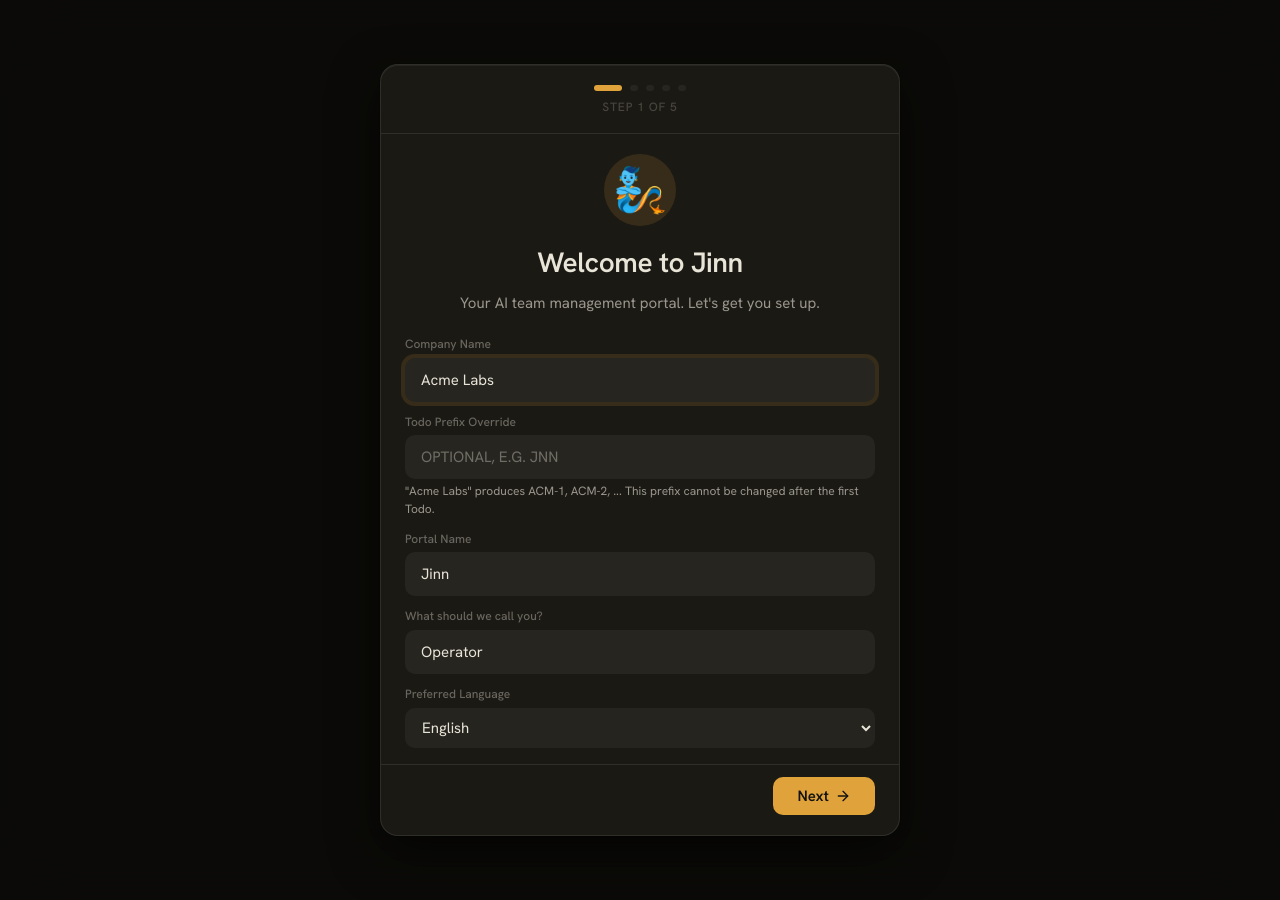
OnboardingWizard model registry › allows an explicit canonical prefix override before allocation
Type "Build Sprint Labs" into the field labelled "Company Name" at (640, 380), box top-left (405, 358), bottom-right (875, 402)
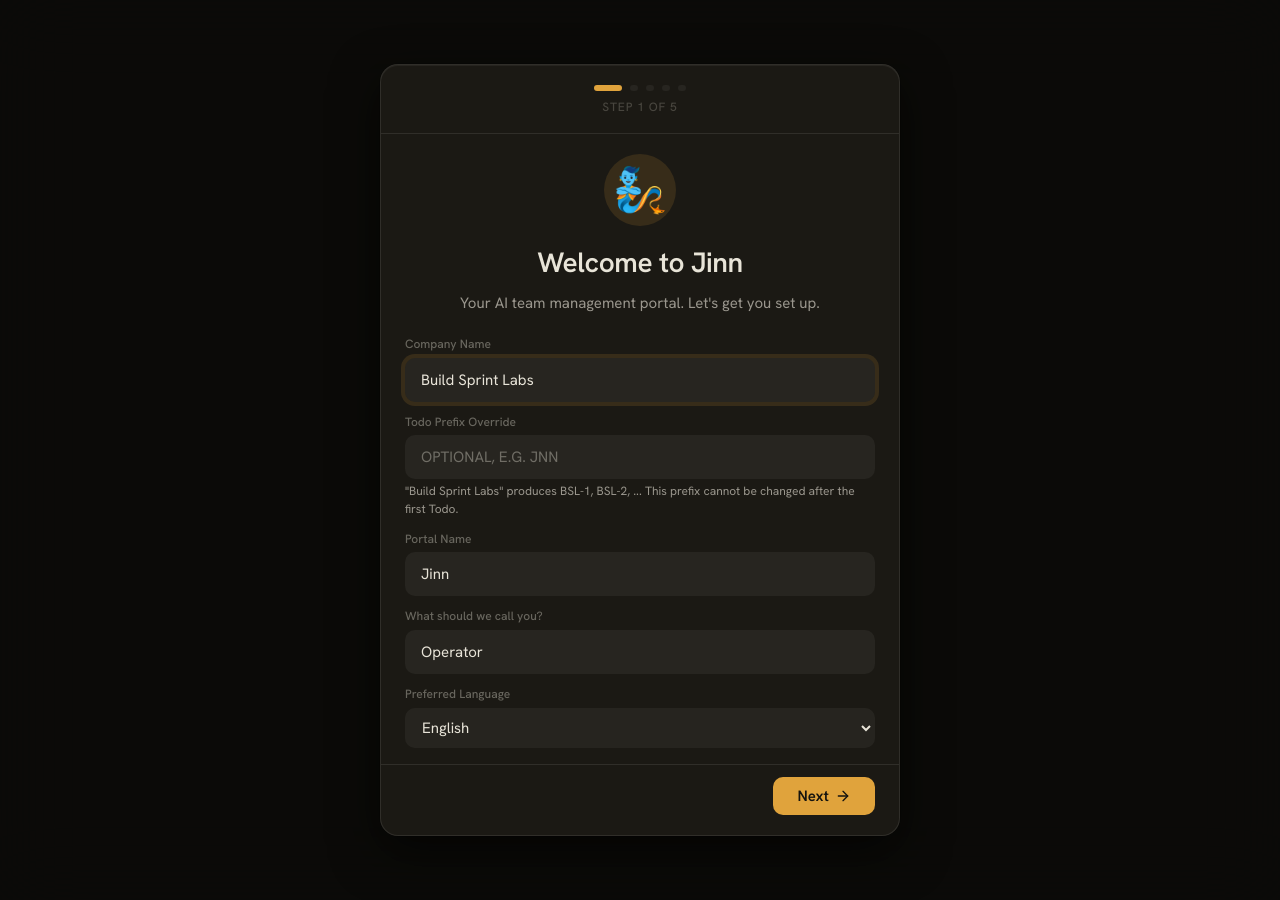
Now the text "\"Build Sprint Labs\" produces BSL-1, BSL-2" is shown, box top-left (405, 483), bottom-right (875, 519)
Type "JNN" into the field labelled "Todo Prefix Override" at (640, 457), box top-left (405, 435), bottom-right (875, 479)
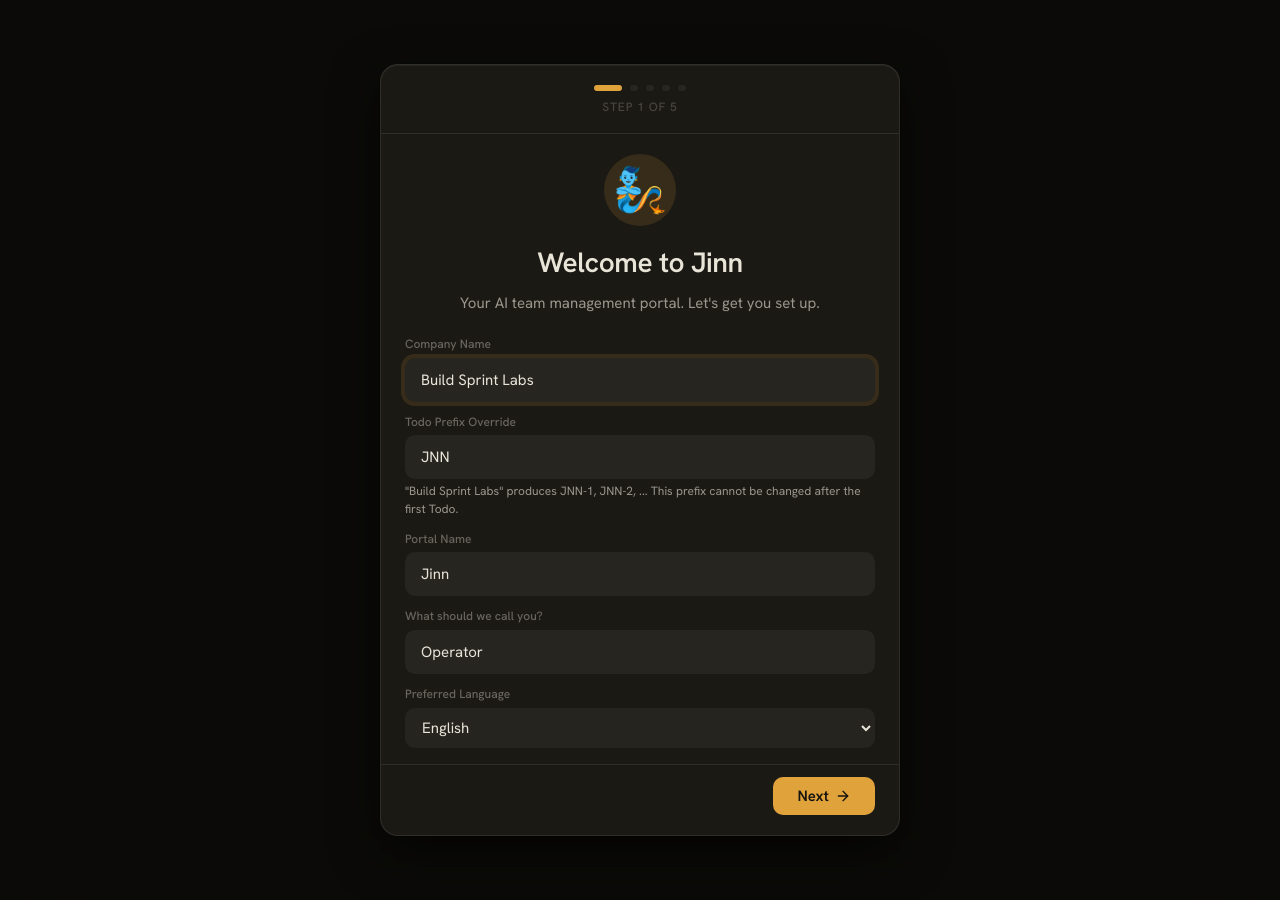
Now the text "\"Build Sprint Labs\" produces JNN-1, JNN-2" is shown, box top-left (405, 483), bottom-right (875, 519)
Replace the text in the field labelled "Todo Prefix Override" with "jn" at (640, 457), box top-left (405, 435), bottom-right (875, 479)
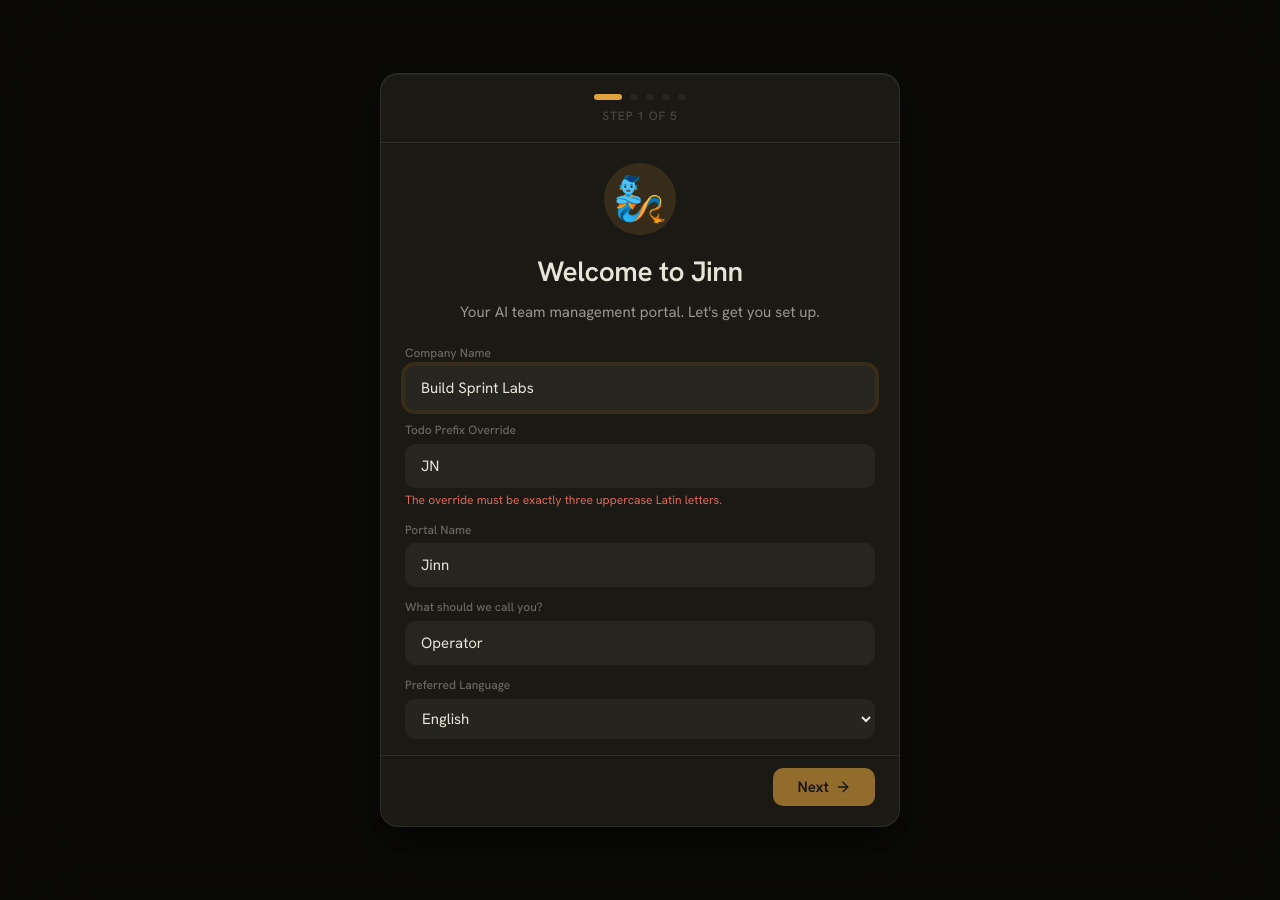
Now the message shows "three uppercase Latin letters", box top-left (405, 492), bottom-right (722, 508)
Now the button "Next" is disabled, box top-left (773, 768), bottom-right (875, 806)
